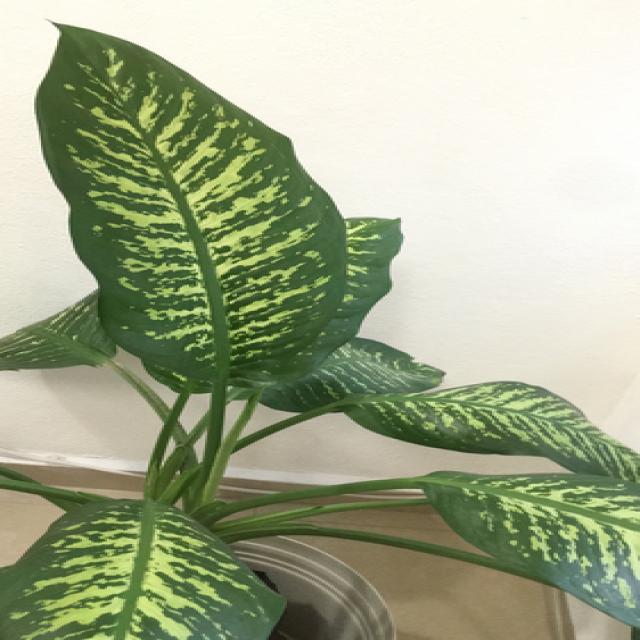dieffenbachia-oVHx: (0, 19, 640, 640)
